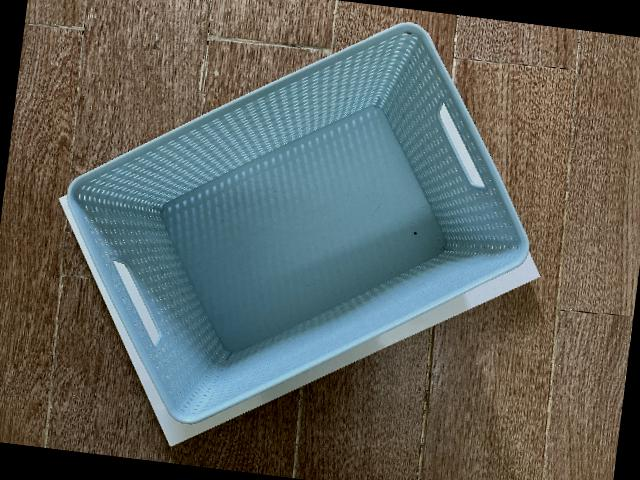cart: (66, 24, 528, 424)
